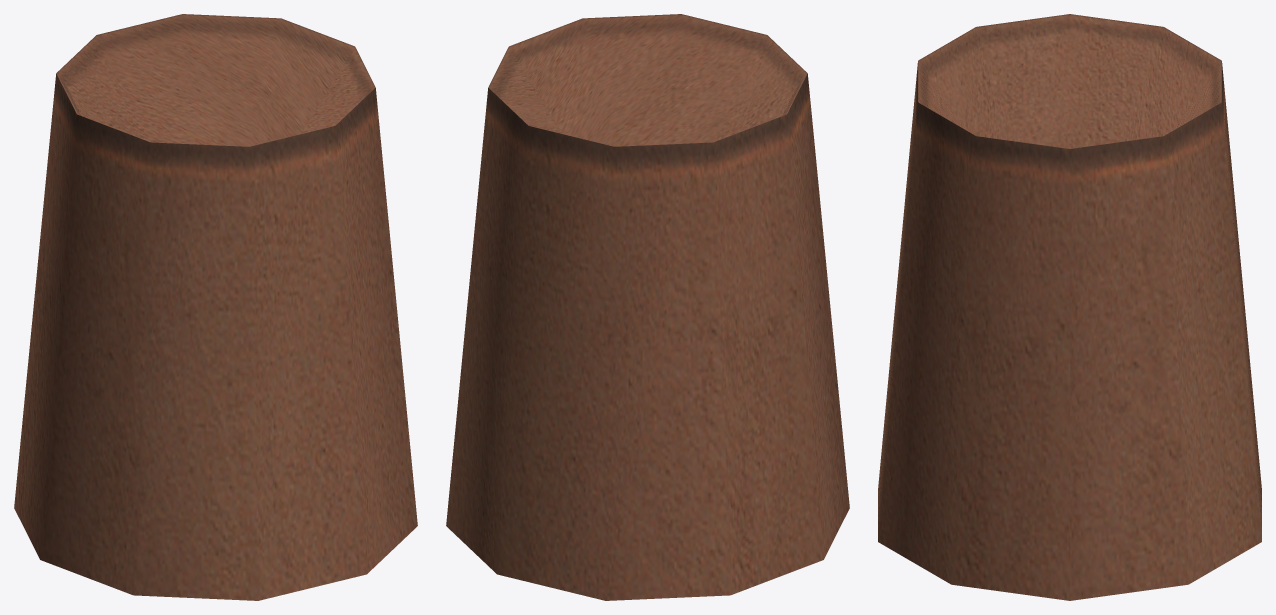
File: fut1.obj
3 renders of one model, left to right at view 1: azimuth 30°, elevation 25°; view 2: azimuth 150°, elevation 25°; view 3: azimuth 270°, elevation 25°, orthographic.
Parts seen in each view (by area): view 1: pPipe1; view 2: pPipe1; view 3: pPipe1.
Part boxes in pixels (x1,y1,x2,y2): pPipe1: (14, 14, 417, 600); pPipe1: (446, 14, 849, 600); pPipe1: (878, 14, 1261, 600).
Bounding box in the file's own units: 1.74 × 2.06 × 1.65.
Materials: 1 (1 with a texture image).
